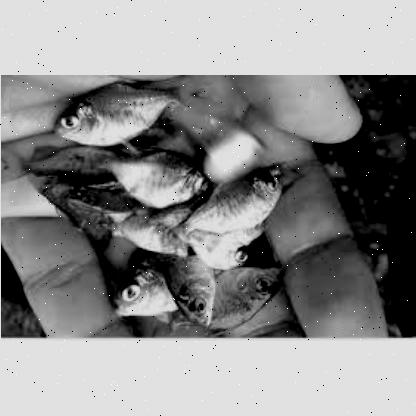ikan-pacu: (49, 80, 179, 144), (183, 163, 283, 241), (104, 146, 206, 204), (180, 268, 274, 330)
